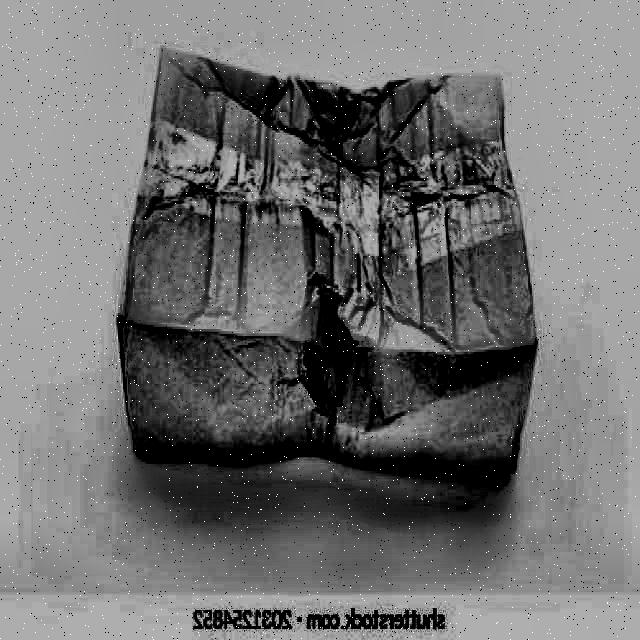box: (102, 36, 547, 504)
hole: (291, 276, 361, 414)
